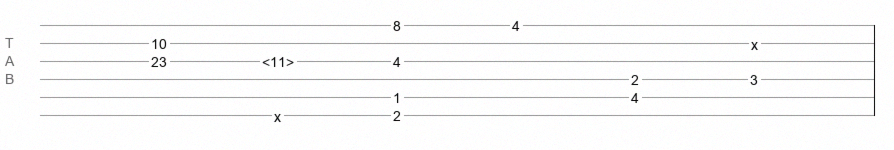1: (393, 90, 401, 100)
10: (151, 36, 167, 46)
2: (393, 108, 401, 118), (631, 72, 639, 82)
23: (151, 54, 167, 64)
3: (750, 72, 758, 82)
4: (393, 54, 401, 64), (512, 18, 520, 28), (631, 90, 639, 100)
8: (393, 18, 401, 28)
harmonic: (262, 54, 294, 64)
x: (274, 109, 281, 117), (751, 37, 758, 45)
